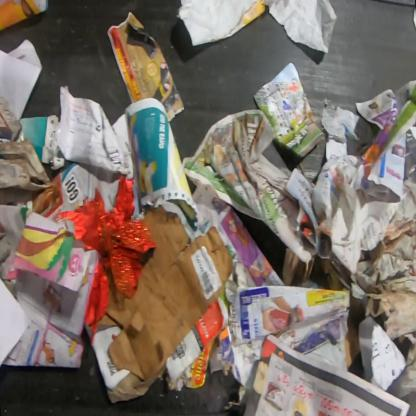cardboard: (95, 206, 234, 384), (209, 284, 350, 390), (0, 95, 54, 205), (15, 113, 65, 172), (280, 245, 344, 290), (344, 290, 366, 373)
soft_plastic: (52, 175, 159, 328)
